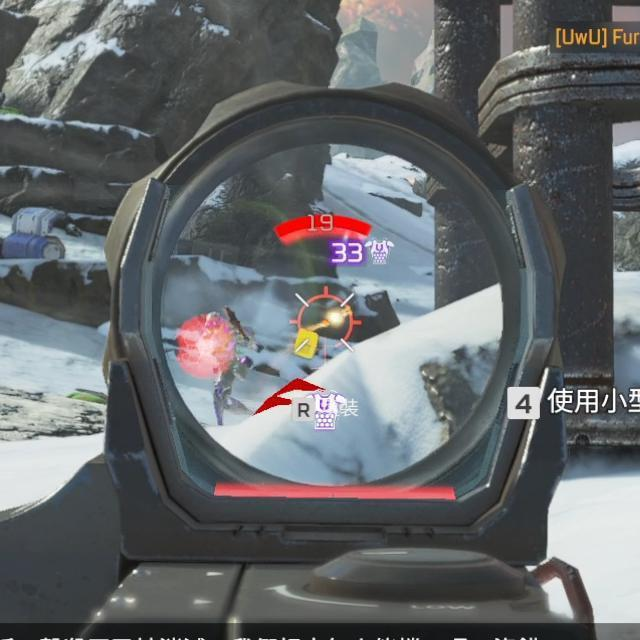avatar: (202, 308, 246, 426)
object: (176, 312, 237, 380)
